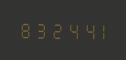eight: (17, 19, 31, 39)
four: (63, 20, 77, 40), (78, 20, 92, 40)
one: (93, 20, 107, 40)
three: (32, 19, 46, 39)
two: (48, 19, 62, 39)
